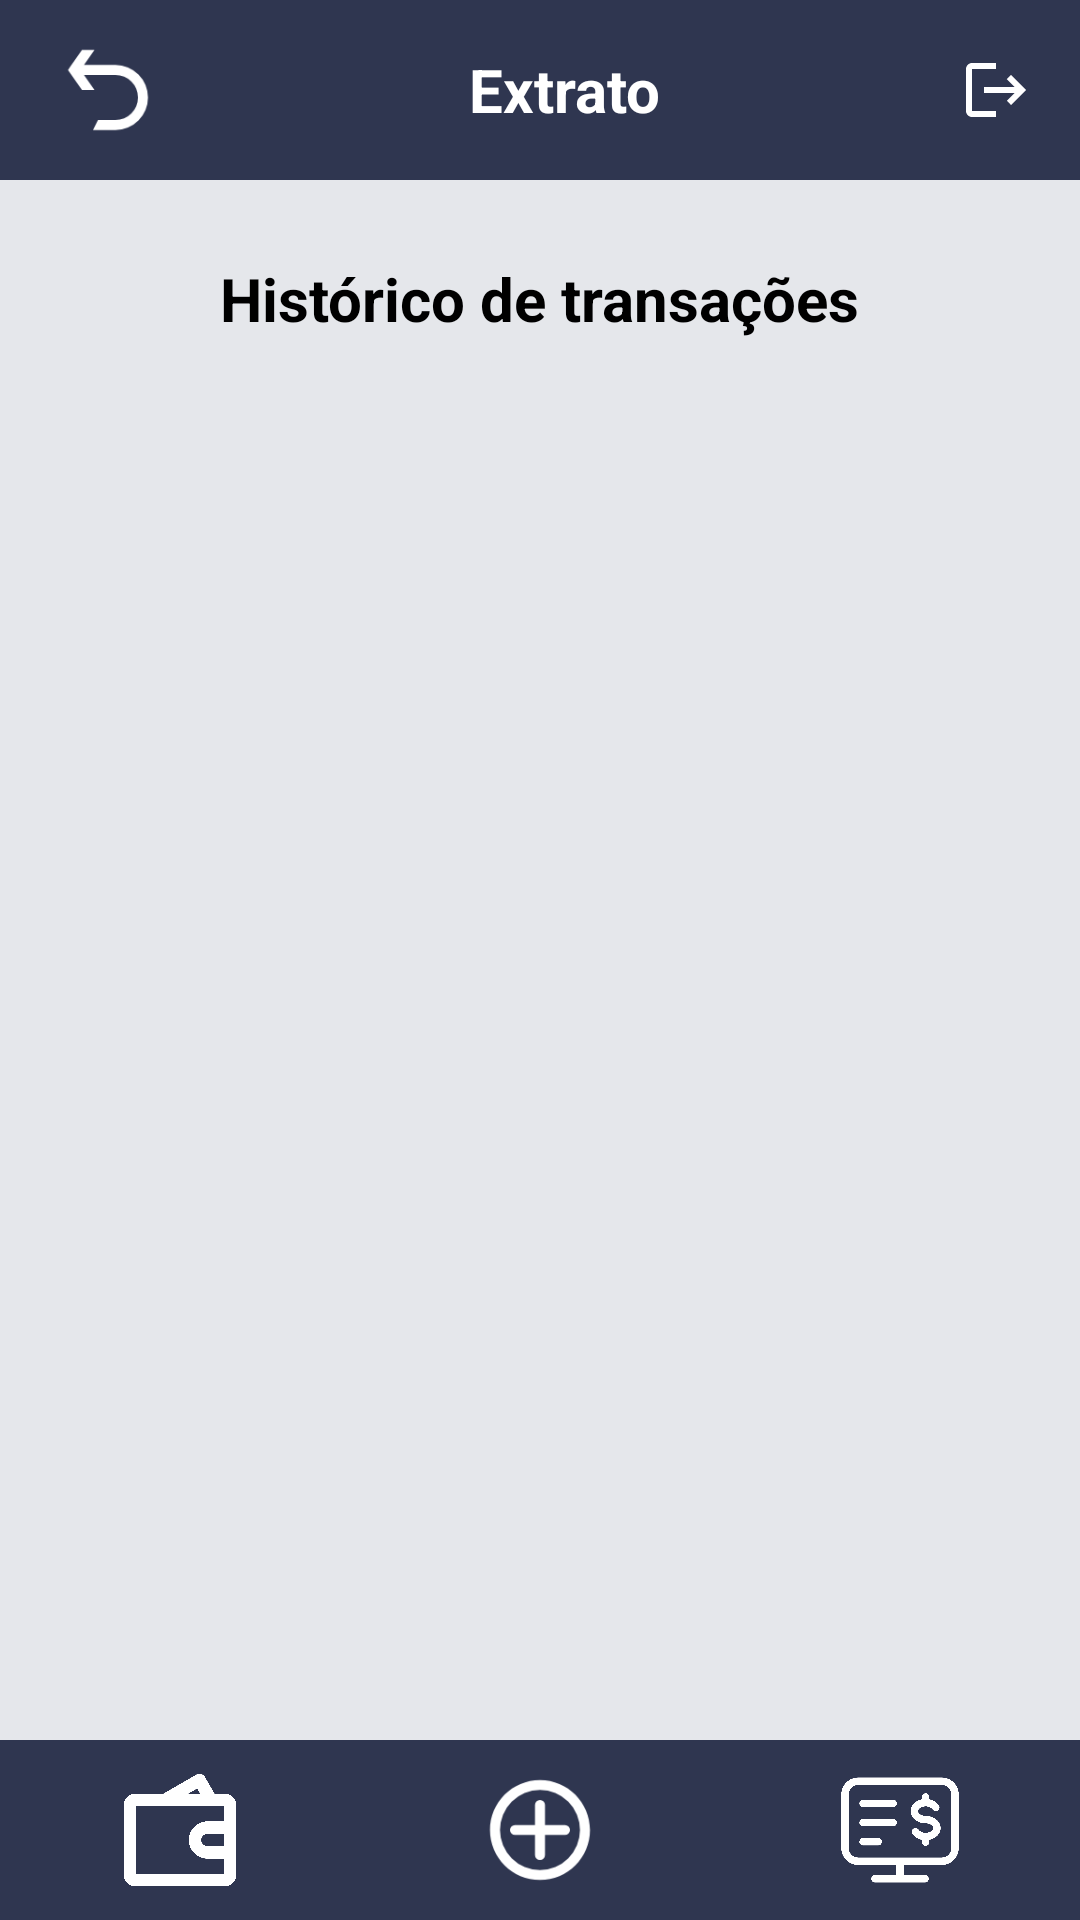

Point at icon controls on the screen. Image size 1080 × 1920, points as (x=x, y=y).
adicionar: (x=540, y=1830)
carteira: (x=180, y=1830)
extrato: (x=900, y=1830)
voltar: (x=108, y=90)
